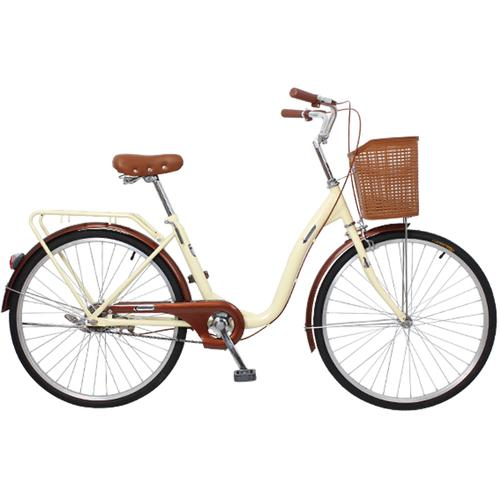单车: (1, 68, 499, 418)
